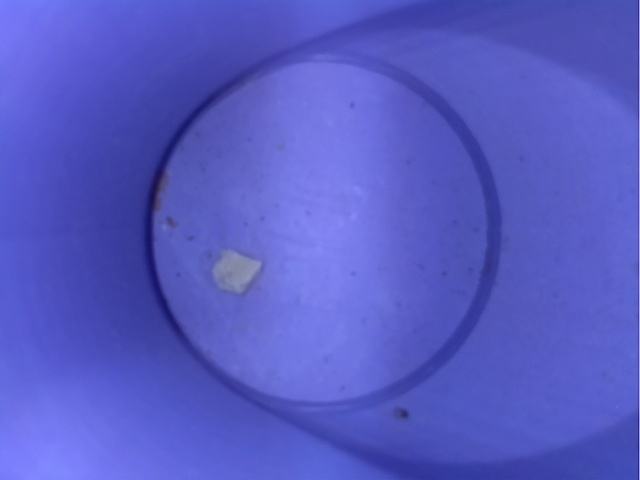caillou: (203, 241, 277, 315)
